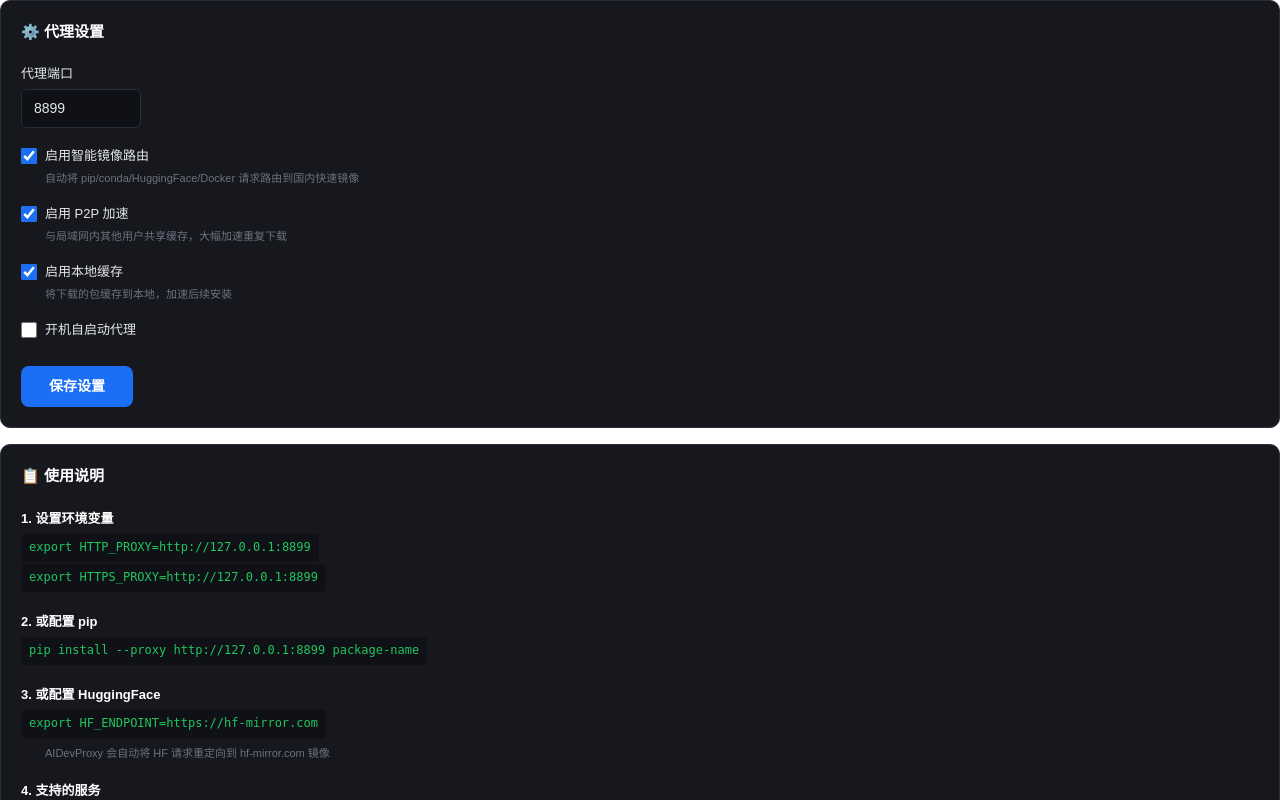
Test: Settings › saves config and shows confirmation
The image size is (1280, 800).
Click the button "保存设置" at (77, 386), box [21,366,133,406]
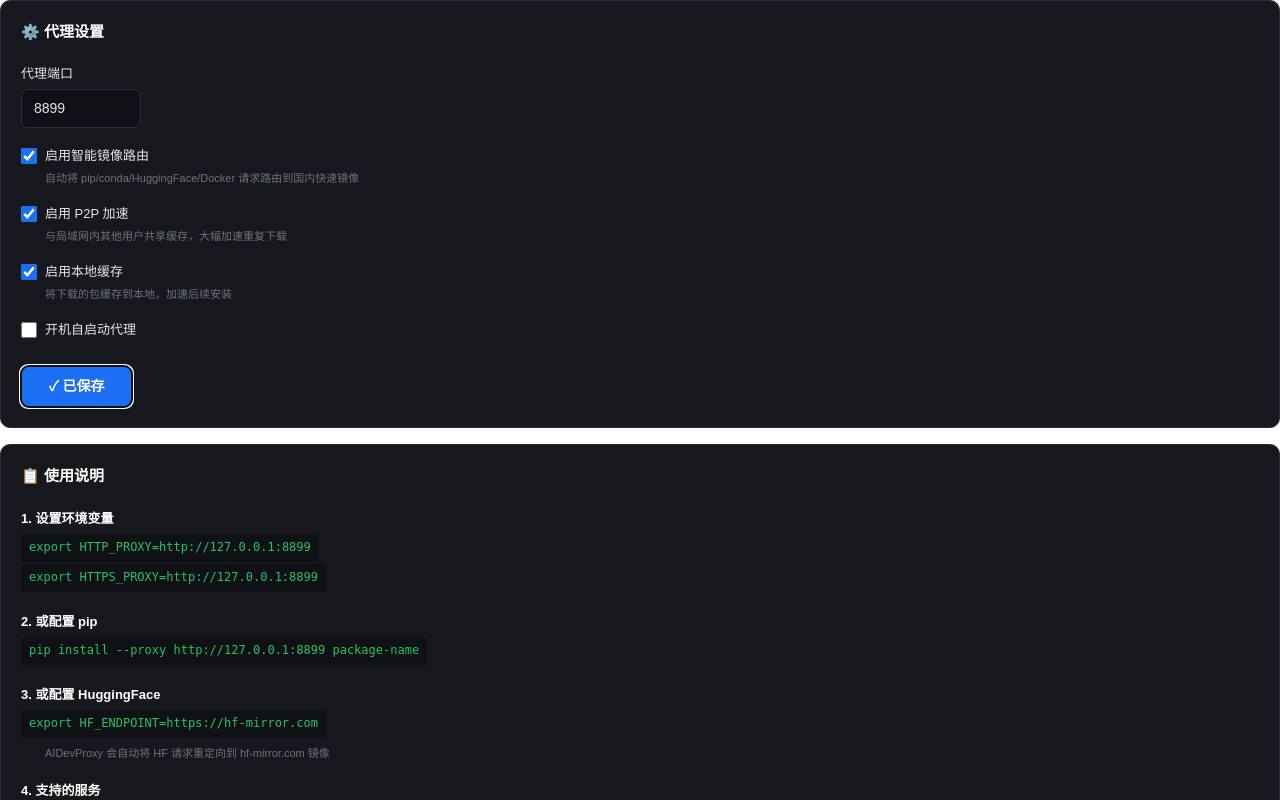
Now the button "✓ 已保存" is shown, box [21,366,132,406]
